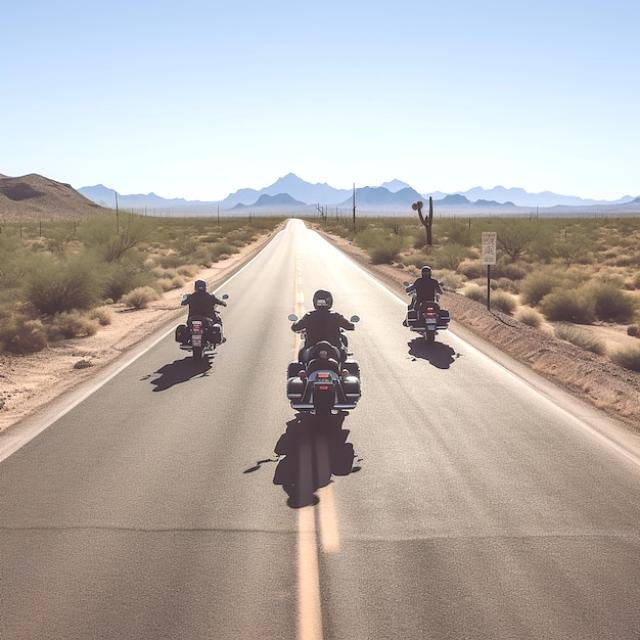MOTORCYCLE: (290, 316, 357, 436), (180, 295, 229, 366), (409, 287, 449, 352)
